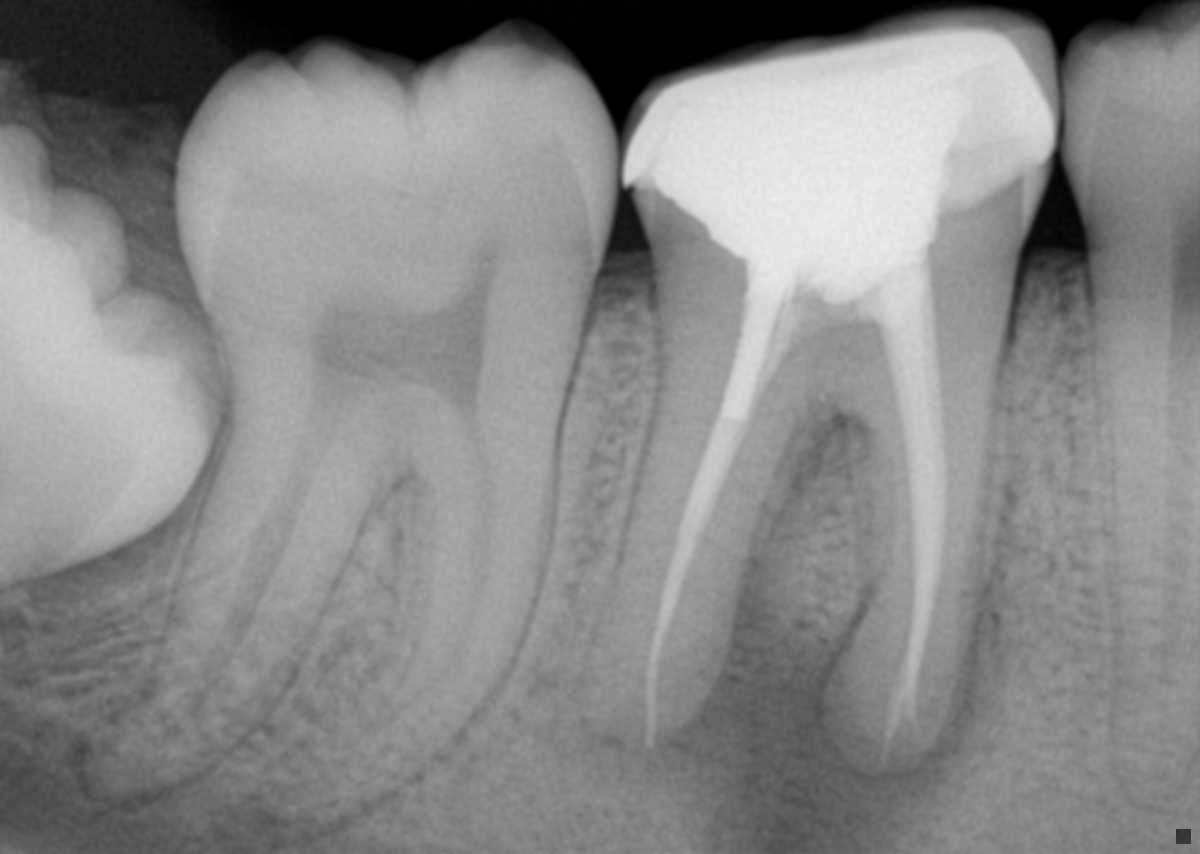Apical Lesion: (748, 628, 1011, 854), (603, 591, 783, 783)
Distal Canal: (137, 445, 328, 744)
Distal Root: (64, 406, 389, 804), (577, 327, 840, 746)
Main Canal: (1163, 274, 1200, 688)
Main Root: (1086, 268, 1200, 812)
Mesial Canal: (365, 432, 495, 734)
Mesial Root: (221, 415, 556, 845), (821, 365, 998, 776)
Root Canal Filling: (874, 251, 946, 772), (646, 409, 749, 742)
